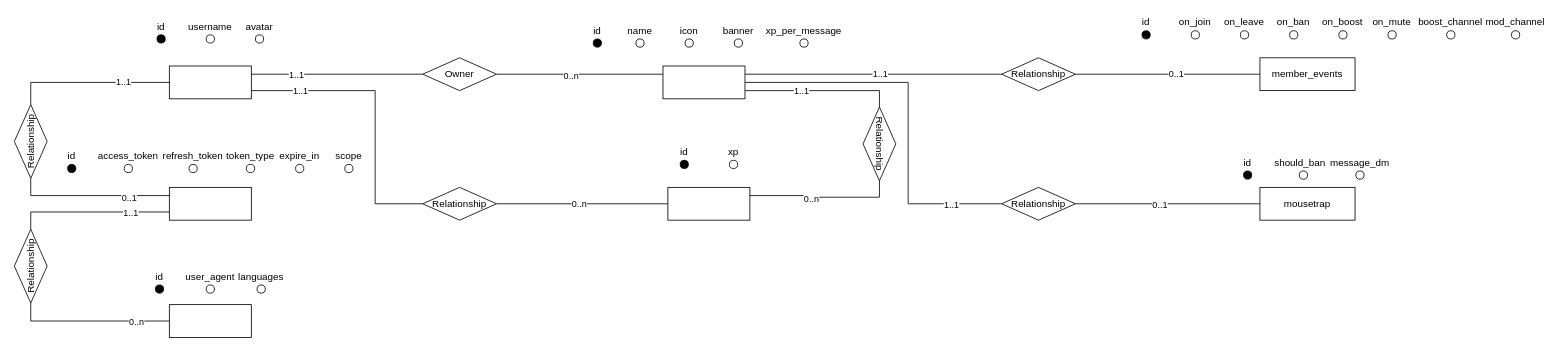
Image size: 1560x352. Some labels were removed from this diagram. Here are the shapes that lost their labels. From the top down, the box of each, then its label:
(169, 65, 251, 99): users
(662, 65, 745, 99): guilds
(169, 187, 251, 220): auths
(667, 187, 750, 220): members
(169, 304, 251, 337): sessions
